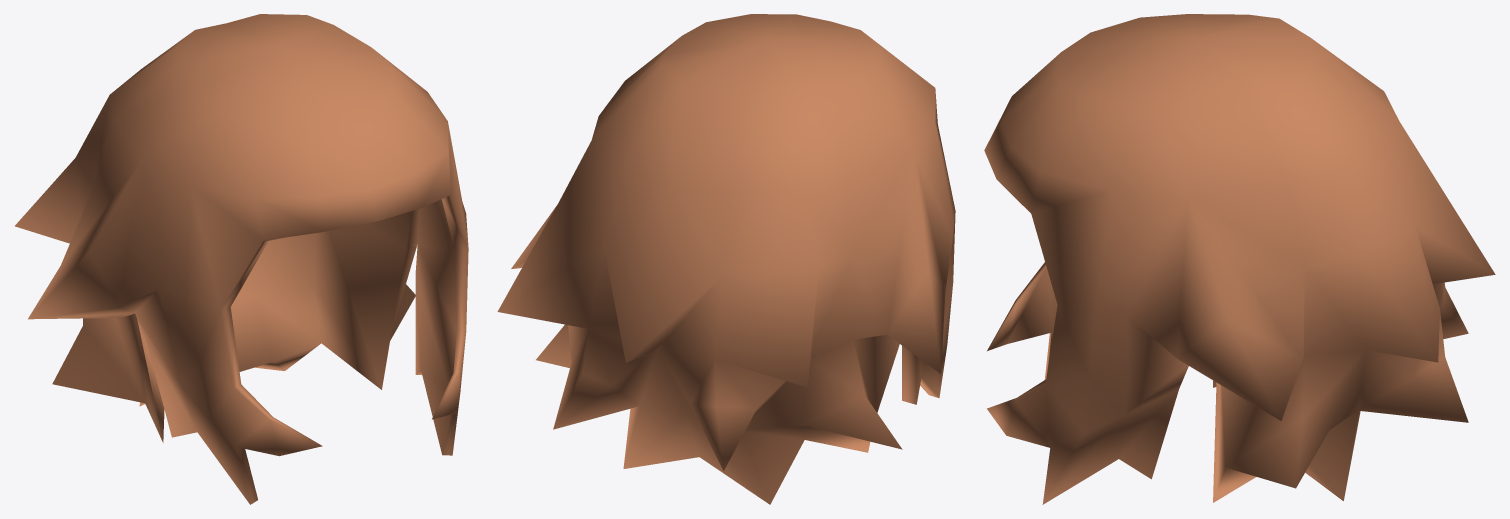
The model's file is Mane.fbx.
3 renders of one model, left to right at view 1: azimuth 30°, elevation 25°; view 2: azimuth 150°, elevation 25°; view 3: azimuth 270°, elevation 25°, orthographic. The views are drawn at different scales.
Visible parts, largest first — view 1: 03 Hair - Mane; view 2: 03 Hair - Mane; view 3: 03 Hair - Mane.
Boxes of the visible parts, <box> form: 03 Hair - Mane: <box>15,14,468,504</box>; 03 Hair - Mane: <box>497,14,955,504</box>; 03 Hair - Mane: <box>984,14,1495,504</box>.
Size of the model in its own units: 0.3011 by 0.265 by 0.2895.
